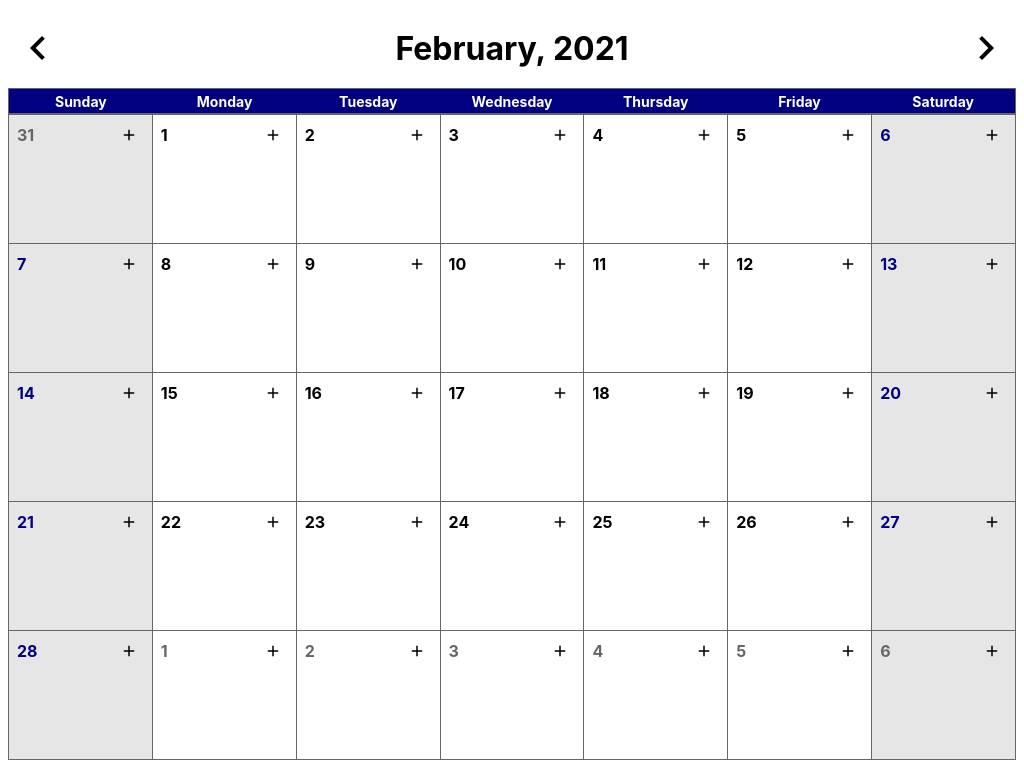
Test case: Calendar App › Given I open the calendar › And I am on February, 2021 › When I click in the next month button › Then I should see the month of march
Click the button named "next". click: (986, 48)
box: [956,23,1016,73]
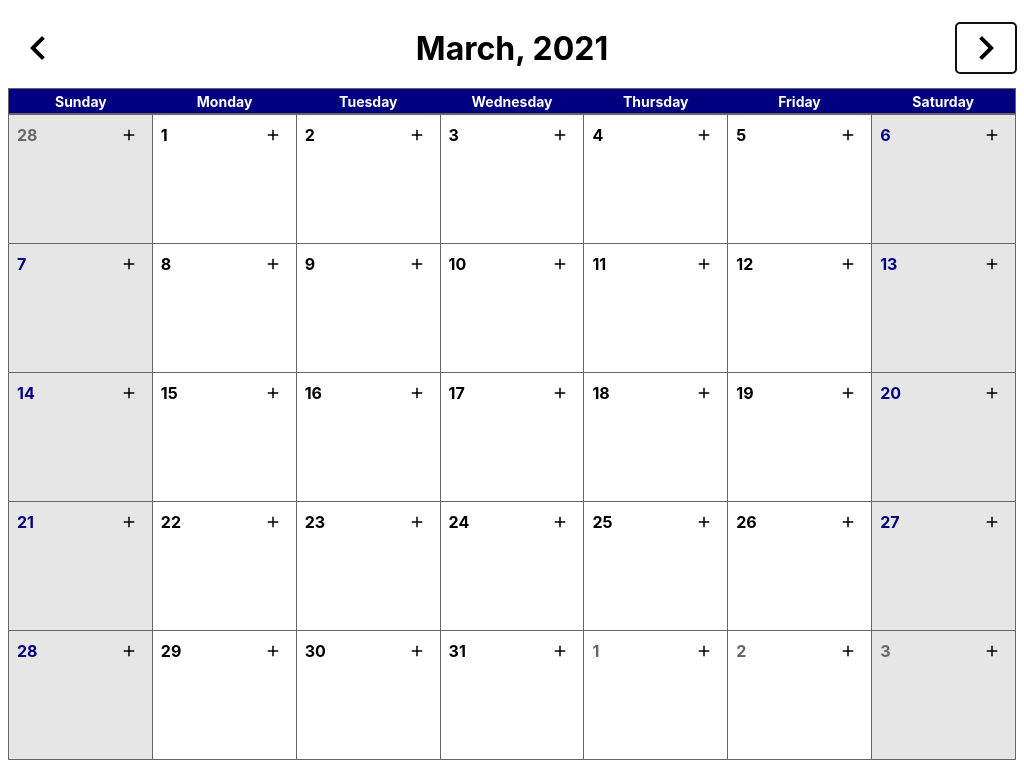
Expected: the text "28" is shown 2 times, [17,123,38,147]; [17,639,38,663]
Result: the heading "March, 2021" is shown at [416,28,608,68]
